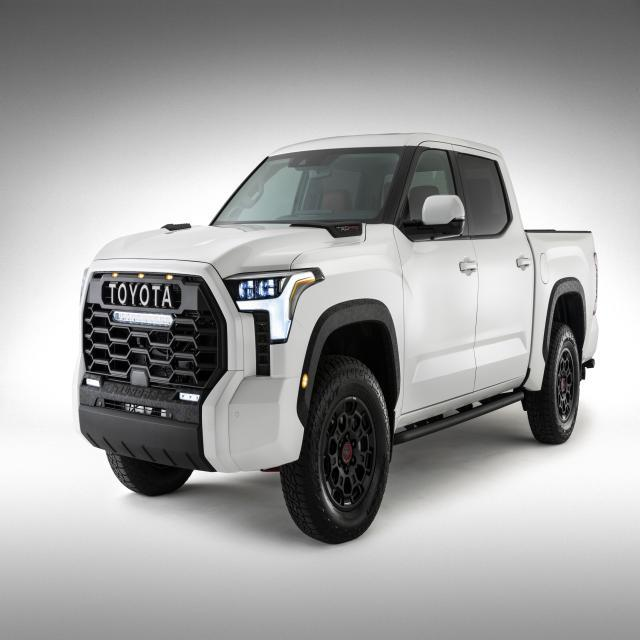person: (72, 130, 600, 546)
